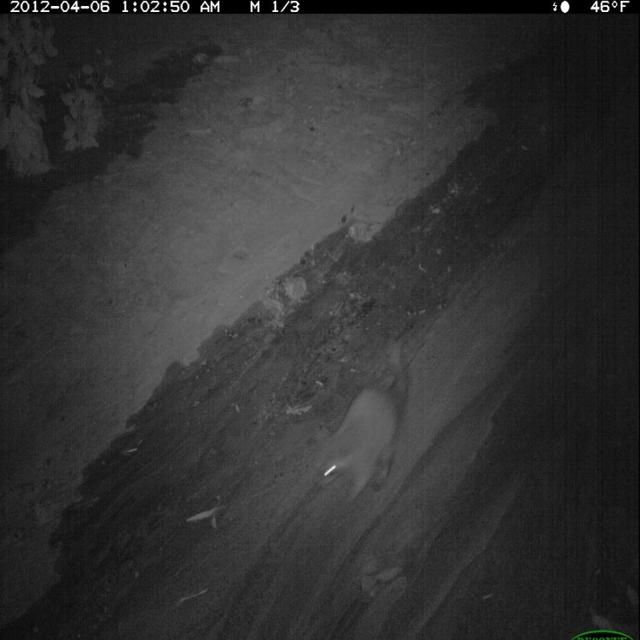raccoon: (310, 371, 409, 510)
